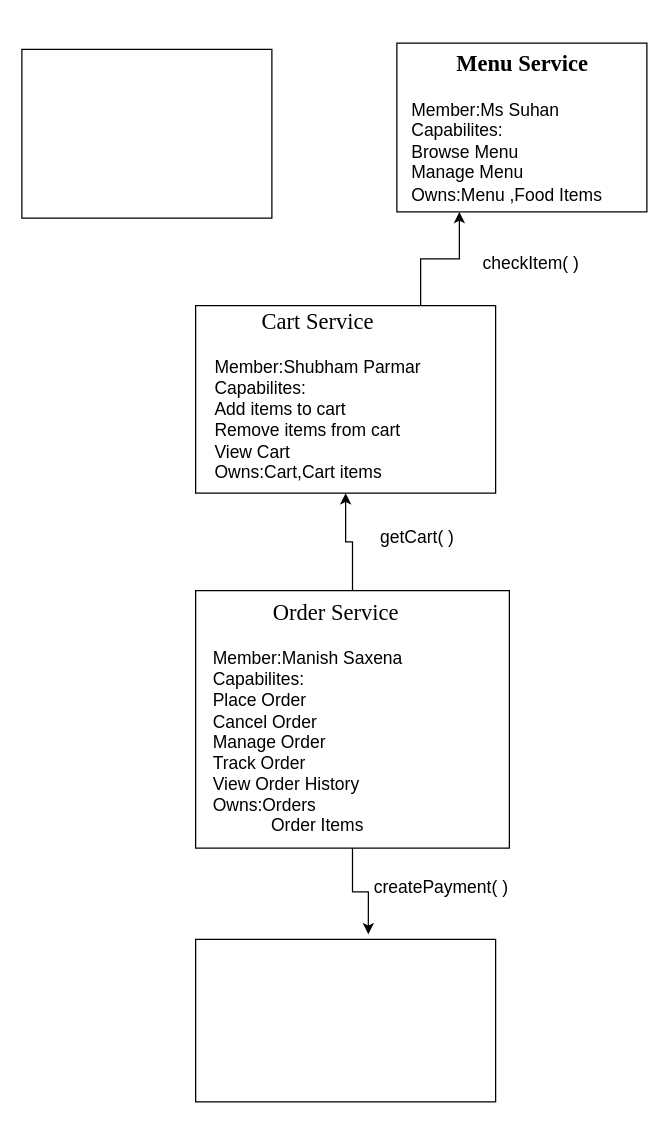
Some shapes in this 669 by 1124 pixel diagram are drawn without their labels. Here are the shapes that lost their labels. From the top down, the centre of each, then its label:
the point at 146,133: User Service Member:Gaurav Vyas Capabilites: Register User Login User Owns:Users
the point at 345,1020: Payment Service Member:Kunal Roy Capabilites: Make Payment Owns:Payments
